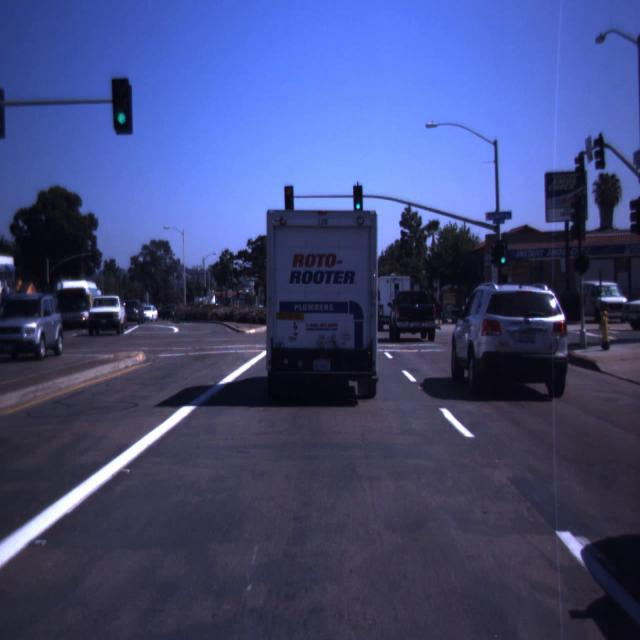yesil: (112, 80, 132, 134), (497, 240, 508, 268), (353, 185, 364, 211)
